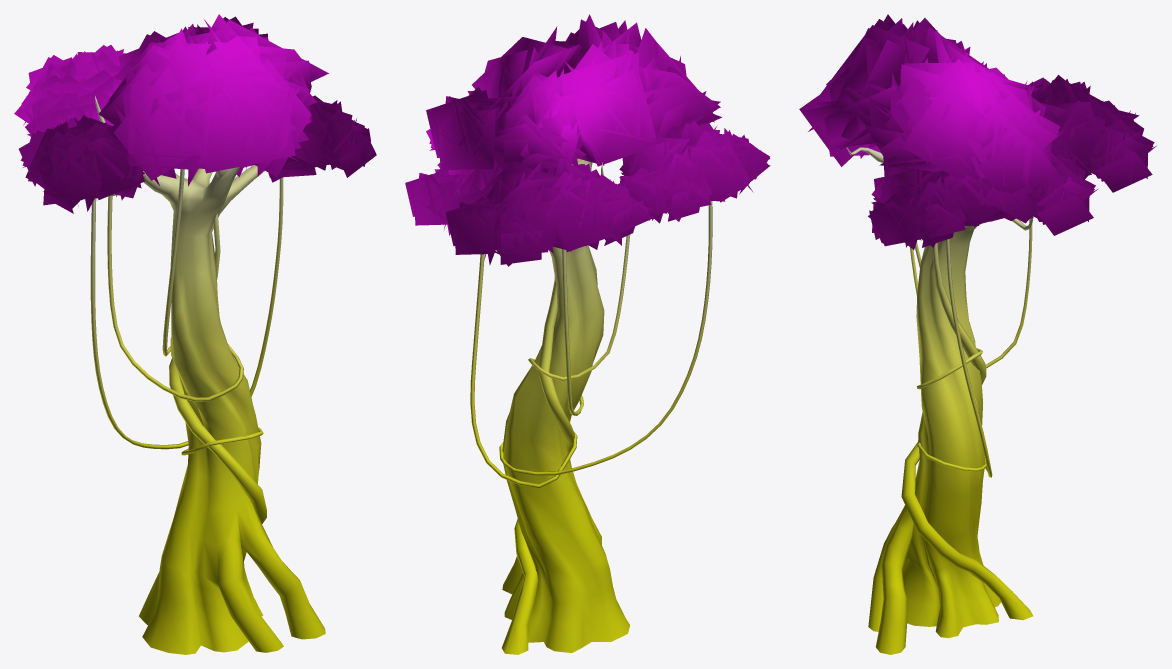
Rendered from tree_kopak_GEO.fbx.
The picture shows the model from 3 angles, left to right: view 1: azimuth 30°, elevation 25°; view 2: azimuth 150°, elevation 25°; view 3: azimuth 270°, elevation 25°; orthographic projection. The views are drawn at different scales.
Visible parts, largest first — view 1: tree_kopak_LOD0; view 2: tree_kopak_LOD0; view 3: tree_kopak_LOD0.
Boxes of the visible parts, x1=… form: tree_kopak_LOD0: x1=14, y1=14, x2=376, y2=654; tree_kopak_LOD0: x1=405, y1=14, x2=770, y2=654; tree_kopak_LOD0: x1=799, y1=14, x2=1156, y2=654.
Size of what is drawn, in the model's own units: 6.14 by 10.76 by 6.08.
